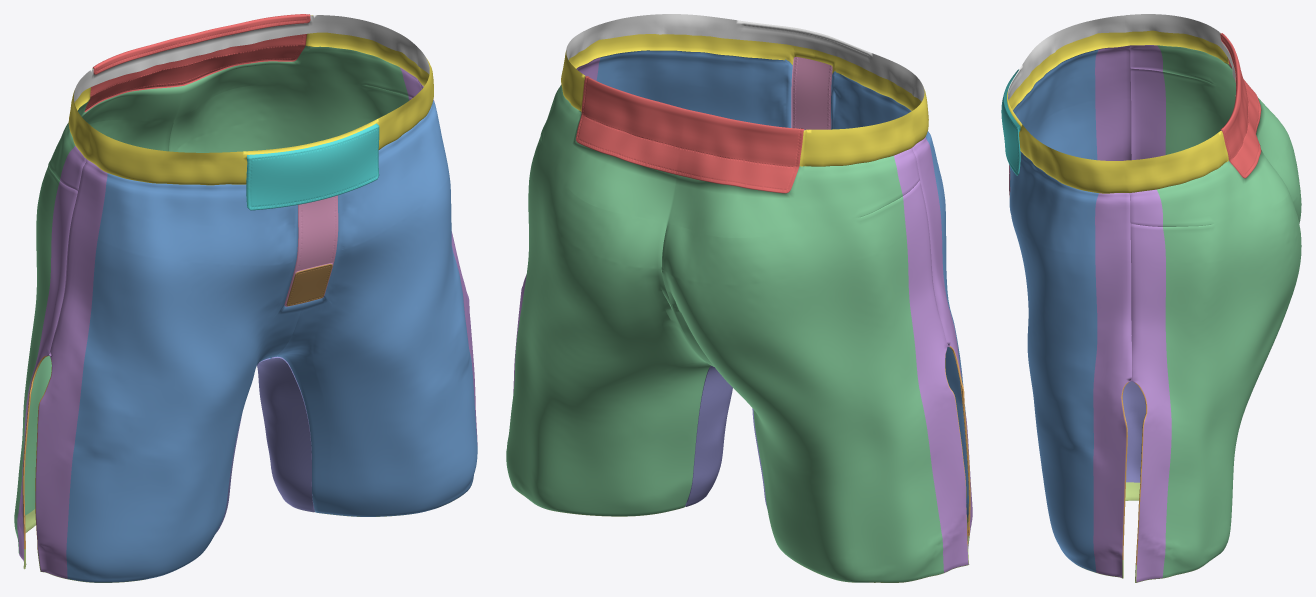
The picture shows the model from 3 angles, left to right: view 1: azimuth 30°, elevation 25°; view 2: azimuth 150°, elevation 25°; view 3: azimuth 270°, elevation 25°; orthographic projection. The views are drawn at different scales.
Visible parts, largest first — view 1: FIGHTERO_Shorts_V04; view 2: FIGHTERO_Shorts_V04; view 3: FIGHTERO_Shorts_V04.
Part boxes in pixels (<box>): FIGHTERO_Shorts_V04: <box>14,14,477,582</box>; FIGHTERO_Shorts_V04: <box>506,14,972,582</box>; FIGHTERO_Shorts_V04: <box>1001,14,1301,582</box>.
Bounding box in the file's own units: 0.6079 × 0.5678 × 0.3838.
